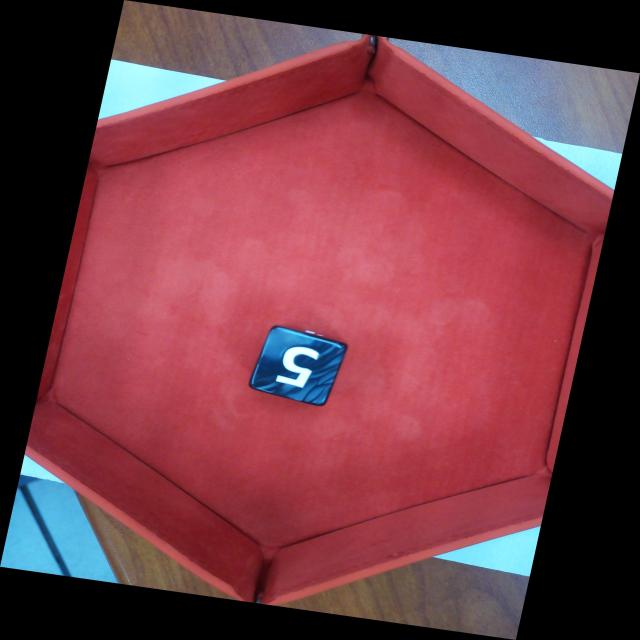dice: (245, 323, 350, 409)
